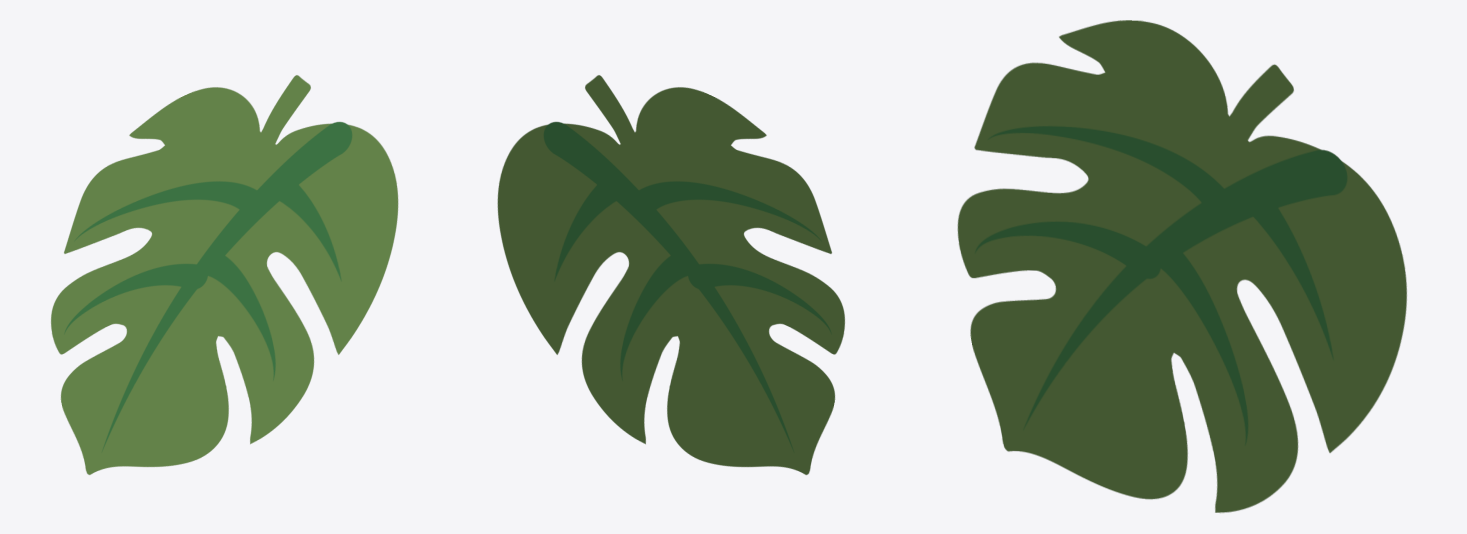
3 renders of one model, left to right at view 1: azimuth 30°, elevation 25°; view 2: azimuth 150°, elevation 25°; view 3: azimuth 330°, elevation 25°, orthographic. The views are drawn at different scales.
Visible parts, largest first — view 1: zoof affiche book-03; view 2: zoof affiche book-03; view 3: zoof affiche book-03.
Boxes of the visible parts, x1=… form: zoof affiche book-03: x1=51, y1=75, x2=398, y2=474; zoof affiche book-03: x1=497, y1=75, x2=844, y2=474; zoof affiche book-03: x1=957, y1=20, x2=1406, y2=512.
Size of the model in its own units: 0.7685 by 0.7676 by 2.48e-07.
1 material, 1 textured.
